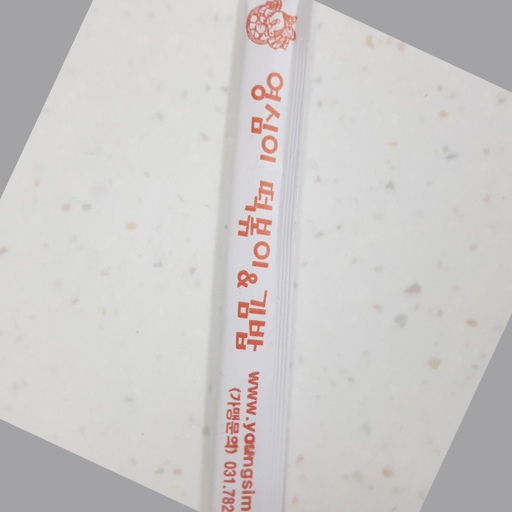Paper_2: (201, 1, 303, 512)
